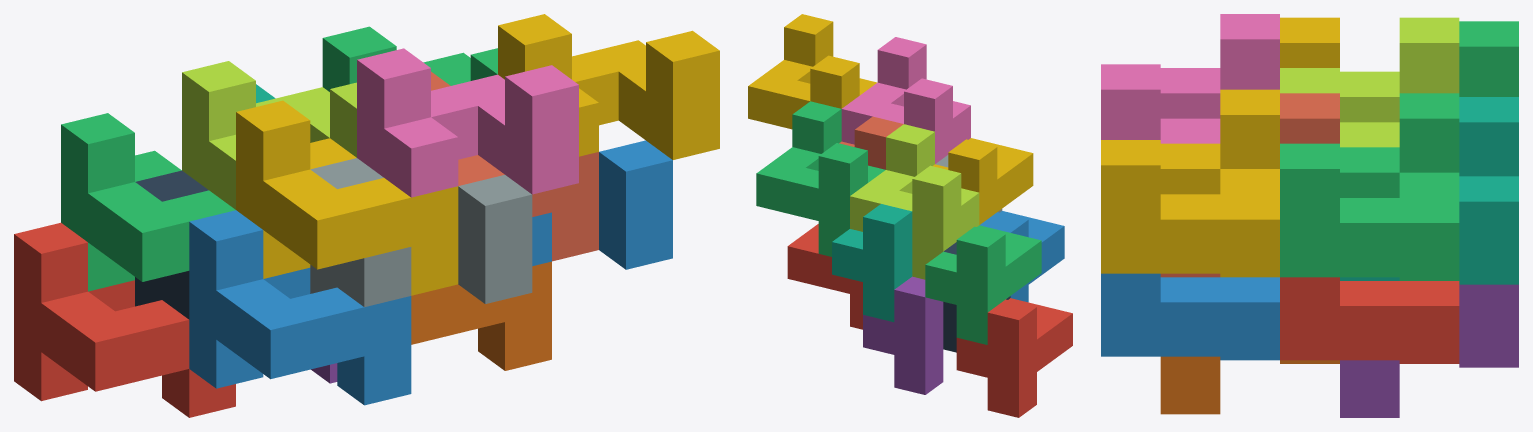
Rendered from tiling.obj.
3 renders of one model, left to right at view 1: azimuth 30°, elevation 25°; view 2: azimuth 150°, elevation 25°; view 3: azimuth 270°, elevation 25°, orthographic. The views are drawn at different scales.
Parts seen in each view (by area): view 1: copy_1_domain_2, copy_2_domain_4, copy_1_domain_4, copy_1_domain_1, copy_2_domain_8, copy_1_domain_3, copy_2_domain_2, copy_2_domain_3, copy_2_domain_6, copy_1_domain_6, copy_1_domain_8, copy_2_domain_7 (+1 smaller); view 2: copy_2_domain_7, copy_2_domain_3, copy_1_domain_1, copy_1_domain_3, copy_2_domain_4, copy_2_domain_8, copy_1_domain_7, copy_1_domain_5, copy_1_domain_4, copy_2_domain_5, copy_1_domain_2, copy_1_domain_8 (+1 smaller); view 3: copy_2_domain_7, copy_2_domain_8, copy_2_domain_5, copy_2_domain_6, copy_2_domain_4, copy_1_domain_7, copy_2_domain_3, copy_1_domain_5, copy_1_domain_3, copy_1_domain_6, copy_1_domain_8, copy_1_domain_4.
Boxes of the visible parts, left/top/right/bottom form: copy_1_domain_2: left=189, top=210, right=411, bottom=405; copy_2_domain_4: left=357, top=48, right=578, bottom=197; copy_1_domain_4: left=236, top=100, right=458, bottom=295; copy_1_domain_1: left=14, top=222, right=235, bottom=417; copy_2_domain_8: left=498, top=14, right=719, bottom=159; copy_1_domain_3: left=61, top=113, right=235, bottom=291; copy_2_domain_2: left=310, top=158, right=532, bottom=307; copy_2_domain_3: left=182, top=61, right=356, bottom=209; copy_2_domain_6: left=532, top=140, right=672, bottom=269; copy_1_domain_6: left=411, top=261, right=551, bottom=370; copy_1_domain_8: left=431, top=71, right=598, bottom=261; copy_2_domain_7: left=322, top=26, right=497, bottom=91; copy_2_domain_7: left=756, top=101, right=885, bottom=256; copy_2_domain_3: left=850, top=124, right=979, bottom=279; copy_1_domain_1: left=956, top=298, right=1072, bottom=417; copy_1_domain_3: left=925, top=225, right=1041, bottom=344; copy_2_domain_4: left=841, top=37, right=970, bottom=163; copy_2_domain_8: left=748, top=14, right=877, bottom=129; copy_1_domain_7: left=832, top=204, right=912, bottom=322; copy_1_domain_5: left=863, top=276, right=943, bottom=394; copy_1_domain_4: left=933, top=138, right=1033, bottom=224; copy_2_domain_5: left=787, top=224, right=862, bottom=329; copy_1_domain_2: left=980, top=211, right=1064, bottom=302; copy_1_domain_8: left=839, top=116, right=903, bottom=169; copy_2_domain_7: left=1280, top=93, right=1459, bottom=280; copy_2_domain_8: left=1101, top=89, right=1279, bottom=277; copy_2_domain_5: left=1280, top=277, right=1459, bottom=363; copy_2_domain_6: left=1101, top=273, right=1279, bottom=360; copy_2_domain_4: left=1101, top=14, right=1279, bottom=143; copy_1_domain_7: left=1340, top=97, right=1518, bottom=284; copy_2_domain_3: left=1280, top=17, right=1459, bottom=147; copy_1_domain_5: left=1340, top=284, right=1518, bottom=417; copy_1_domain_3: left=1459, top=21, right=1518, bottom=96; copy_1_domain_6: left=1160, top=356, right=1339, bottom=414; copy_1_domain_8: left=1160, top=93, right=1339, bottom=277; copy_1_domain_4: left=1280, top=17, right=1339, bottom=67.
Bounding box in the file's own units: 11 × 7 × 7.
